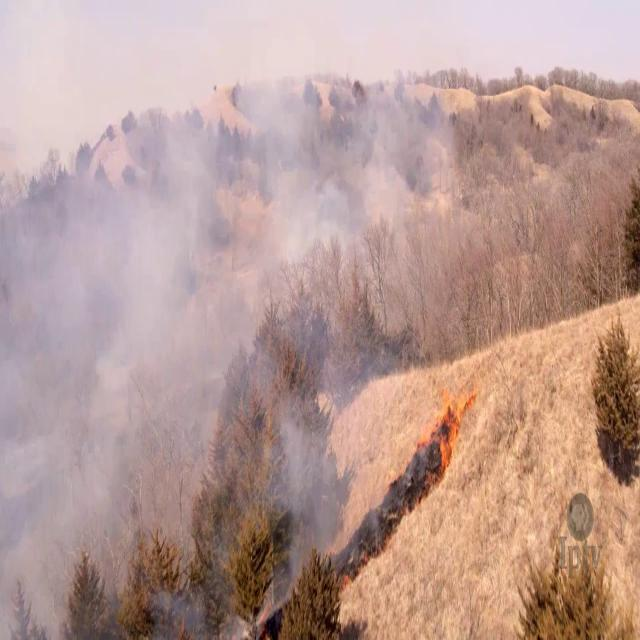Fire: (414, 384, 478, 484)
Smoke: (0, 43, 459, 640)
